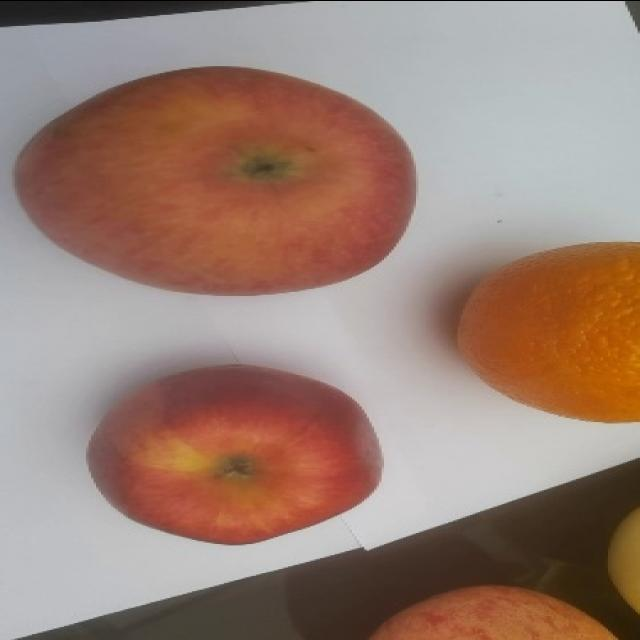Apple: (13, 64, 418, 296), (85, 362, 383, 545), (367, 583, 618, 639)
Orange: (455, 239, 639, 423)
